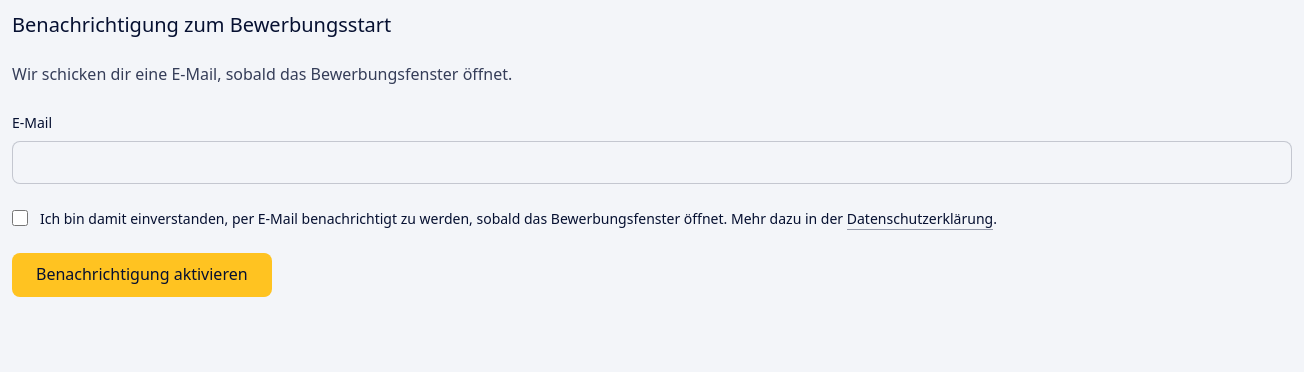
it: ReminderSignupForm › blocks submission and shows errors when email and consent are missing
Click the button "Benachrichtigung aktivieren" at [142, 275], box [12, 253, 272, 297]
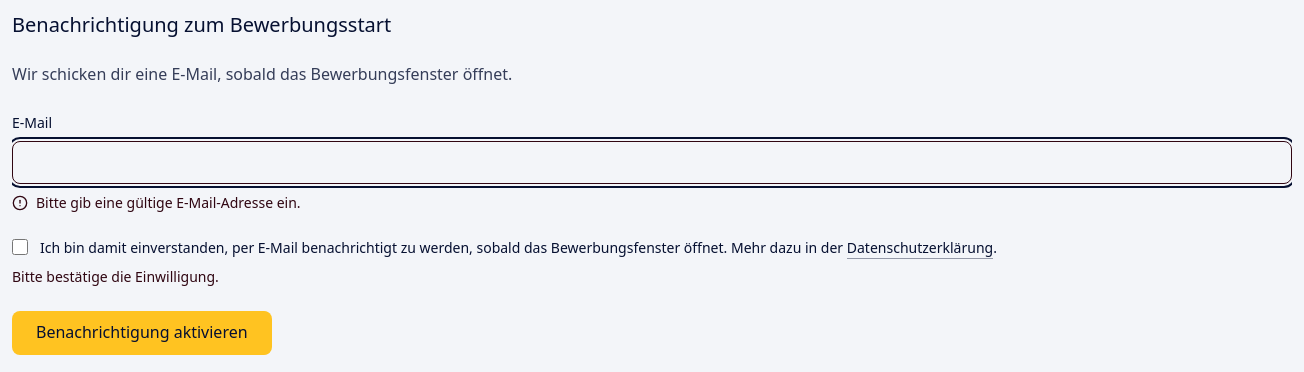
Check: the text "Bitte gib eine gültige E-Mail-Adresse ein." is shown, box [12, 193, 301, 212]
Check: the text "Bitte bestätige die Einwilligung." is shown, box [12, 267, 219, 286]
